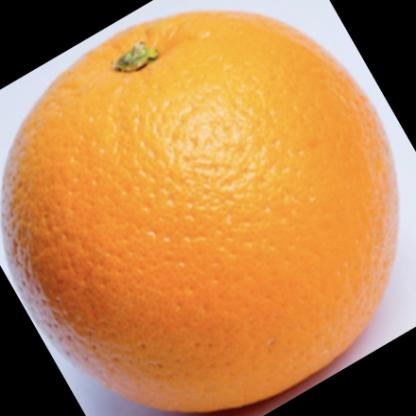fresh: (1, 9, 399, 416)
